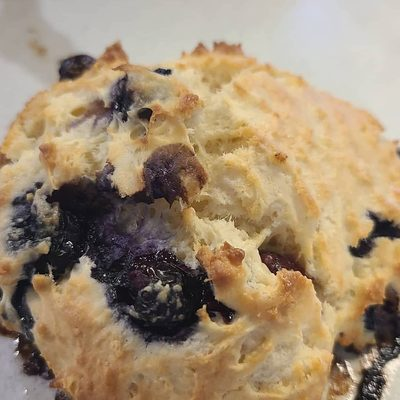sandwich: (1, 38, 400, 399)
